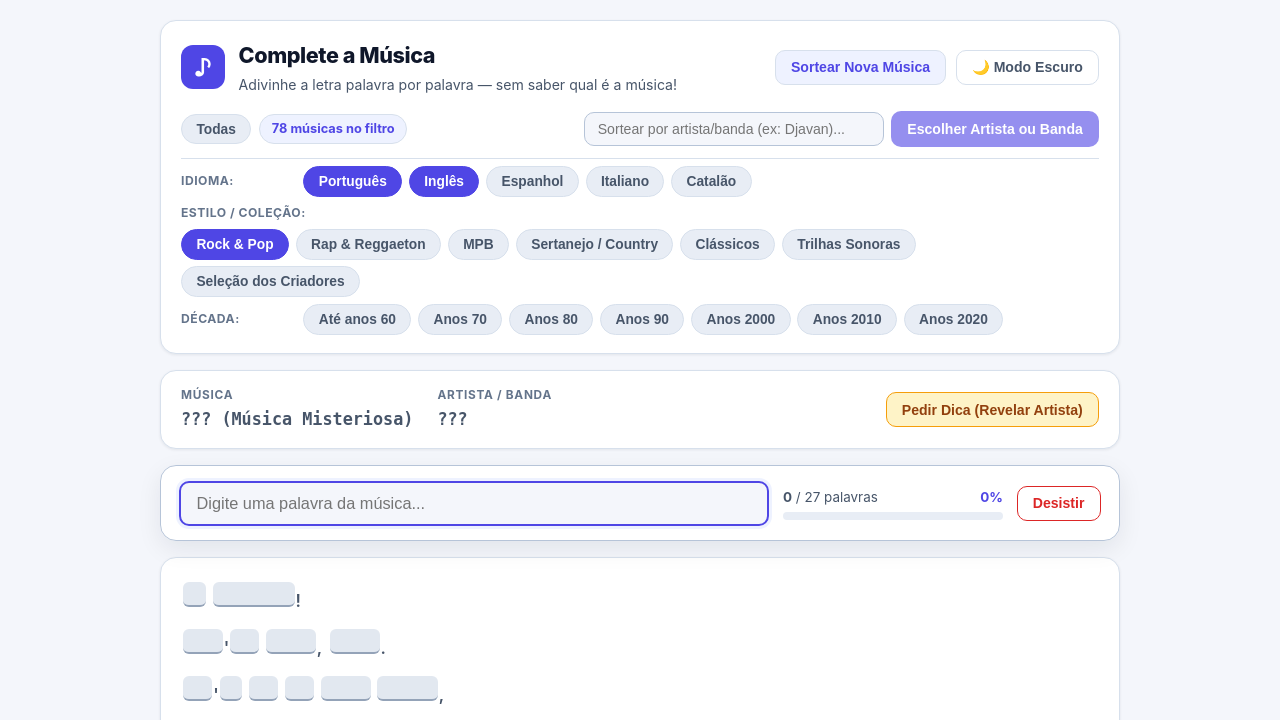
Scenario: Complete a Música App integration › reveals missed words, title, and artist on give up confirmation
The width and height of the screenshot is (1280, 720).
Expected: the field labelled "Digite uma palavra da música..." is shown, [179, 481, 769, 526]
Click the button "Desistir". click: (1059, 503)
box: [1017, 486, 1101, 521]
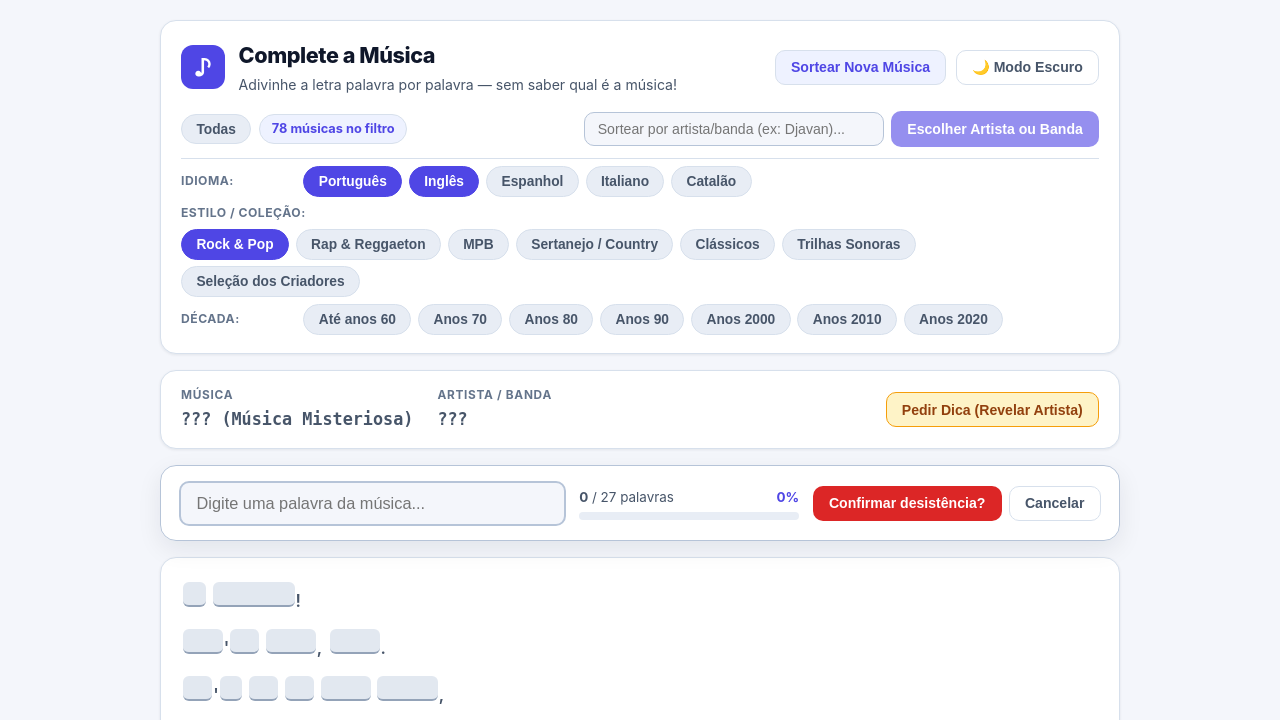
Click the button "Confirmar desistência?". click: (907, 503)
box: [813, 486, 1002, 521]
(page scrolled)
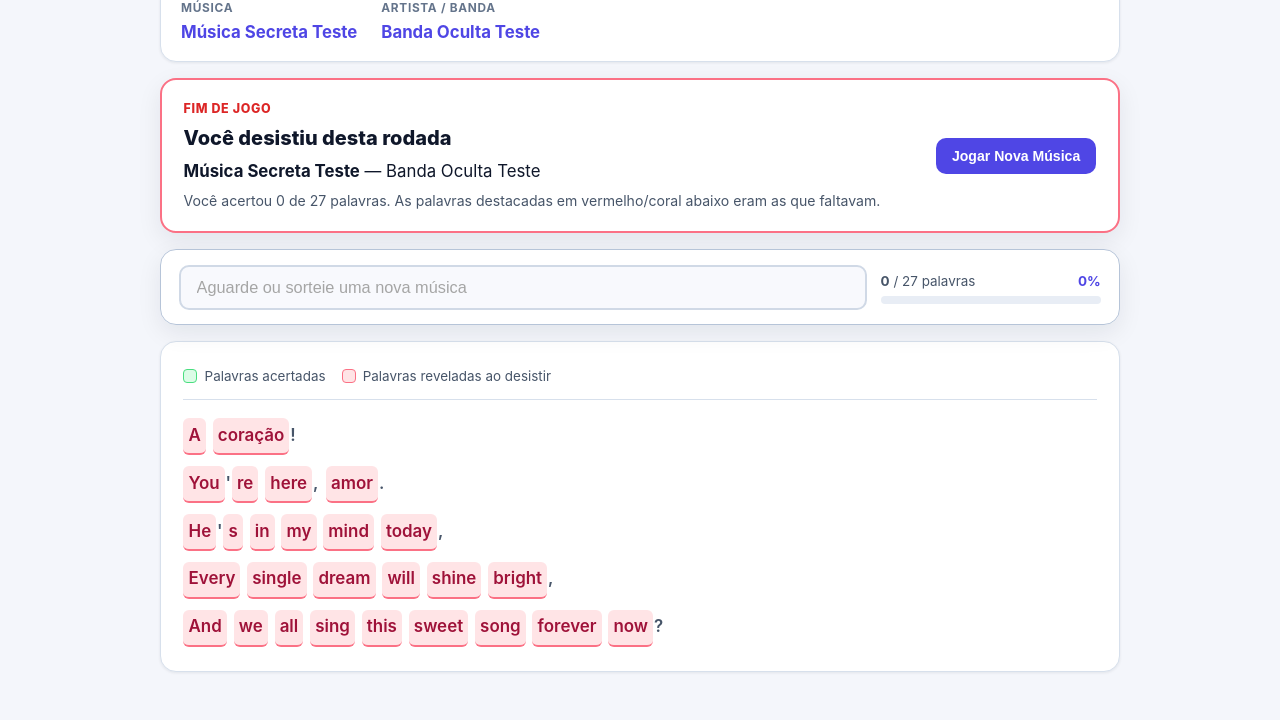
Expected: the text "Música Secreta Teste" below "Artista / Banda" is shown, [181, 22, 357, 42]
Expected: the text "Banda Oculta Teste" is shown, [381, 20, 540, 45]
Expected: the element named "Letra da música" shows "coração", [218, 425, 284, 445]
